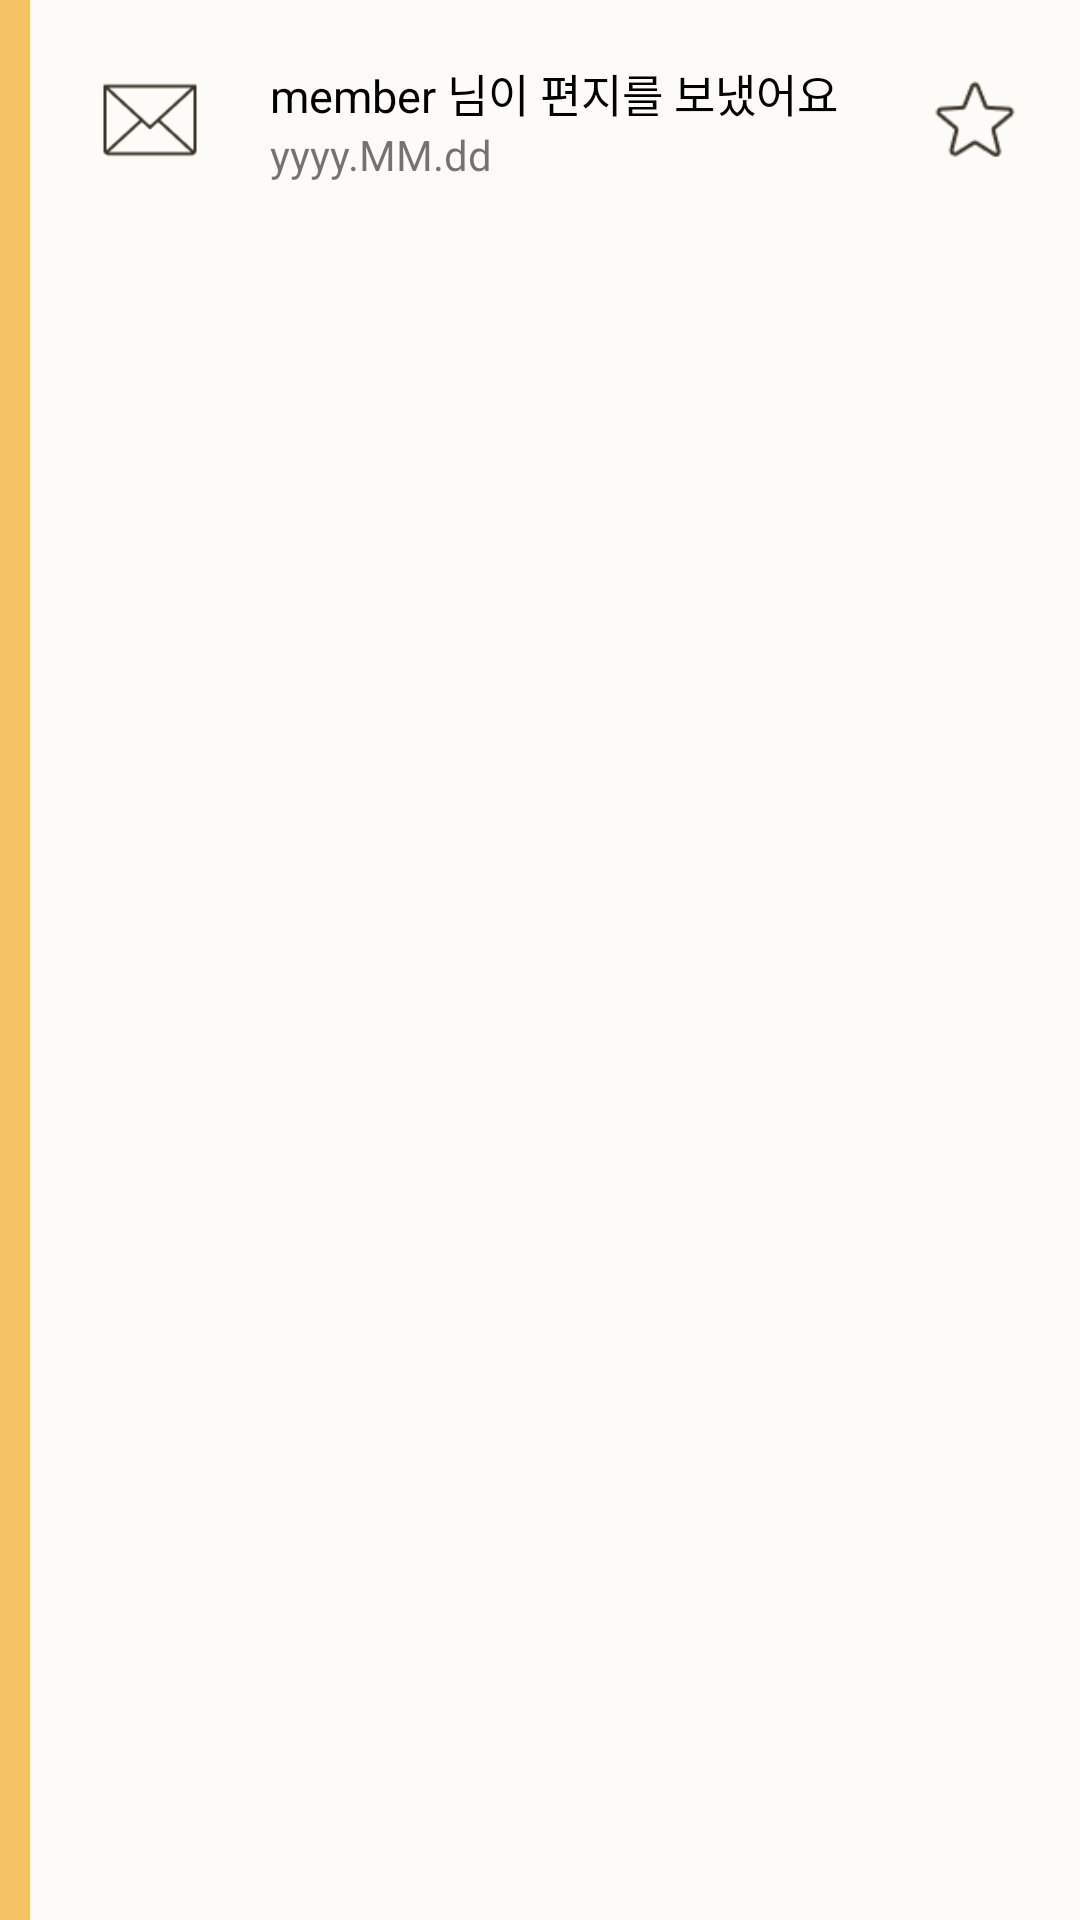

Screen size 1080px x 1920px. Icon name, then its box in pixels as region(x1, y1, x2, y2):
star: region(935, 81, 1015, 157)
unread letter: region(103, 84, 197, 156)
